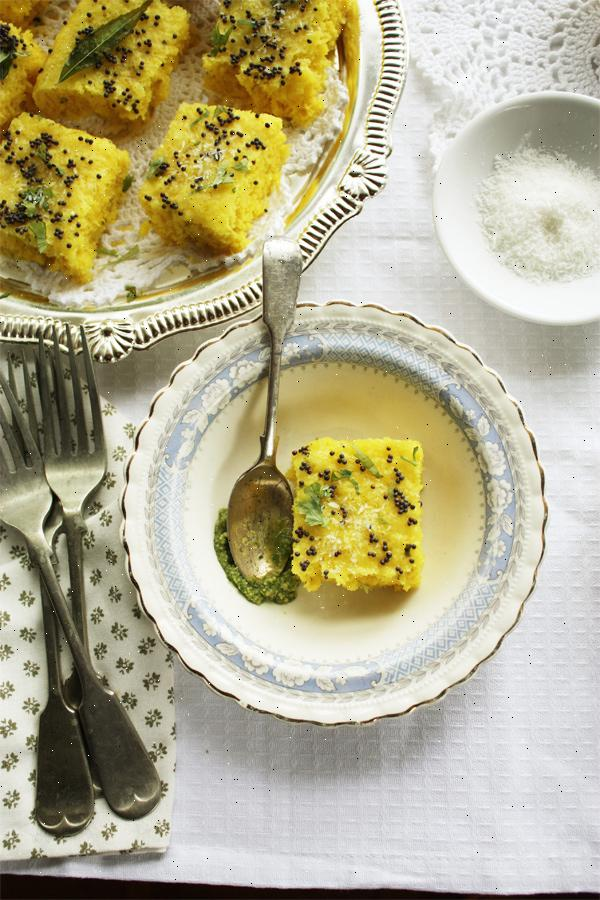yellow dhokla: (3, 4, 337, 283), (287, 436, 427, 601)
